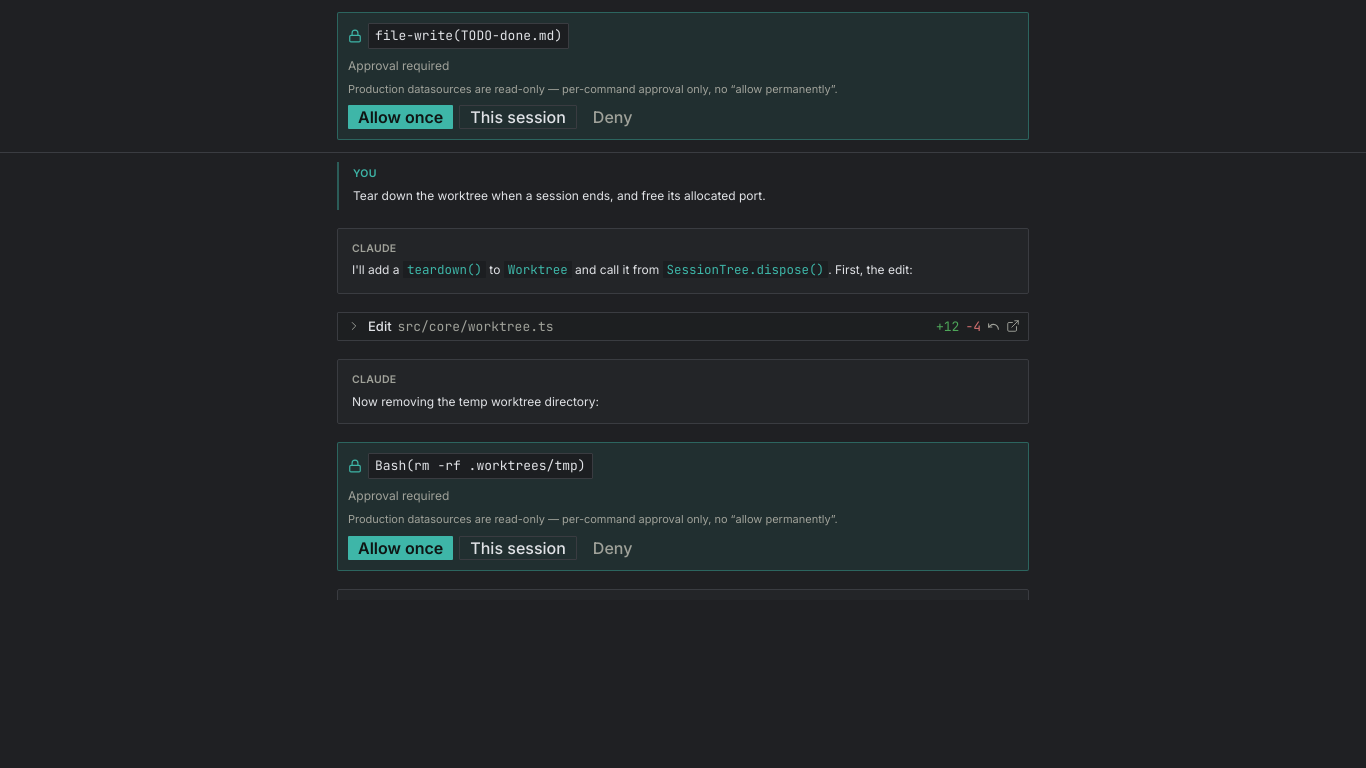
live PermissionPrompt in the Transcript (bridge-connected) › clicking 'Deny' resolves with {axis:'deny'} and clears the prompt (no side effect)
Click the button with test id "permission-scope-2" at (613, 117), box top-left (583, 105), bottom-right (642, 129)
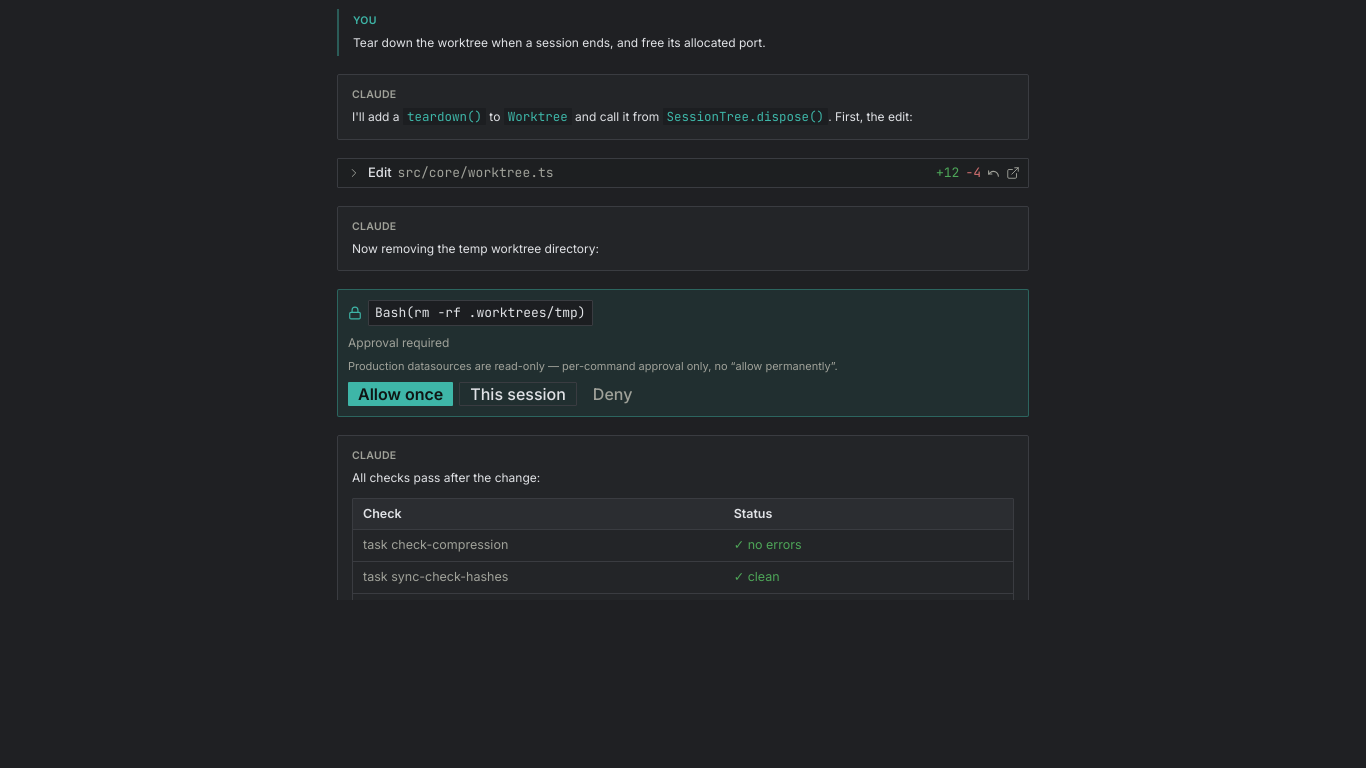
Check: the element with test id "live-permission" is gone
